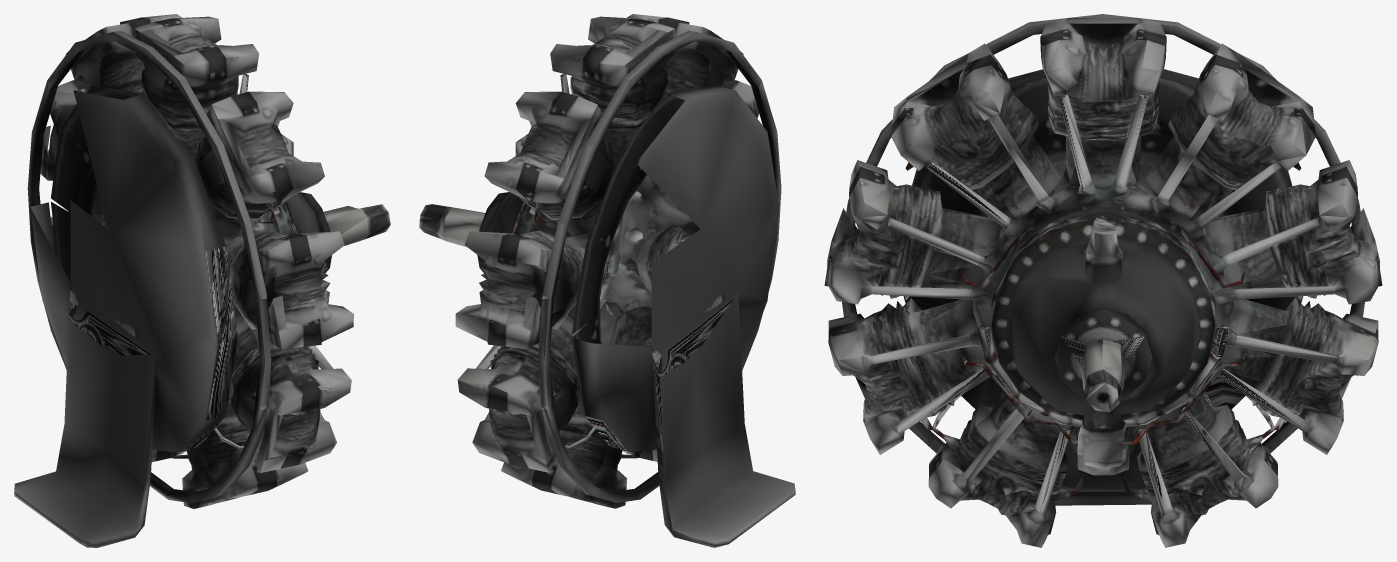
The picture shows the model from 3 angles, left to right: view 1: azimuth 30°, elevation 25°; view 2: azimuth 150°, elevation 25°; view 3: azimuth 270°, elevation 25°; orthographic projection. The views are drawn at different scales.
Visible parts, largest first — view 1: tripo_node_f6bbd5ed-38fd-4c5d-96dd-4ff65; view 2: tripo_node_f6bbd5ed-38fd-4c5d-96dd-4ff65; view 3: tripo_node_f6bbd5ed-38fd-4c5d-96dd-4ff65.
Boxes of the visible parts, left/top/right/bottom form: tripo_node_f6bbd5ed-38fd-4c5d-96dd-4ff65: left=14, top=14, right=390, bottom=547; tripo_node_f6bbd5ed-38fd-4c5d-96dd-4ff65: left=419, top=14, right=795, bottom=547; tripo_node_f6bbd5ed-38fd-4c5d-96dd-4ff65: left=824, top=14, right=1382, bottom=547.
Size of the model in its own units: 0.775 by 0.9939 by 0.993.
Materials: 1 (1 with a texture image).
